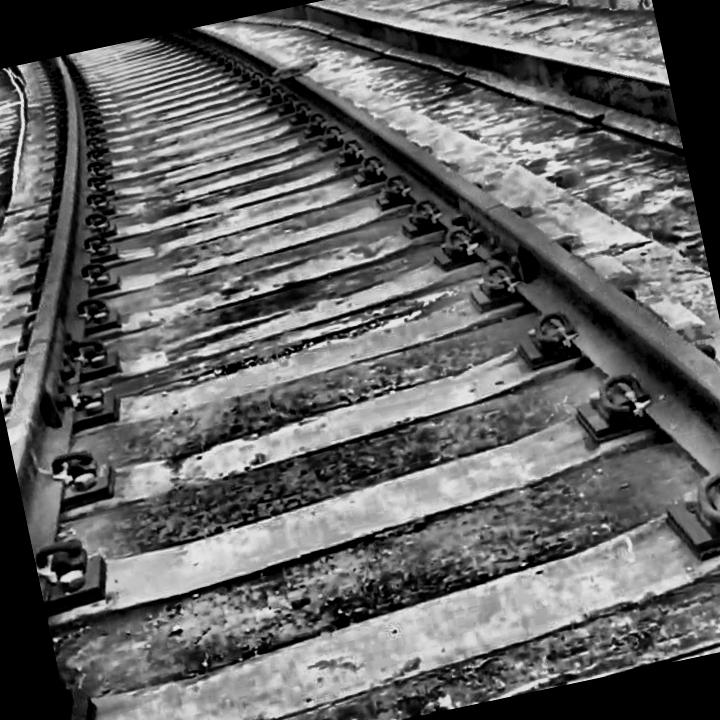Trash: (262, 43, 330, 91)
